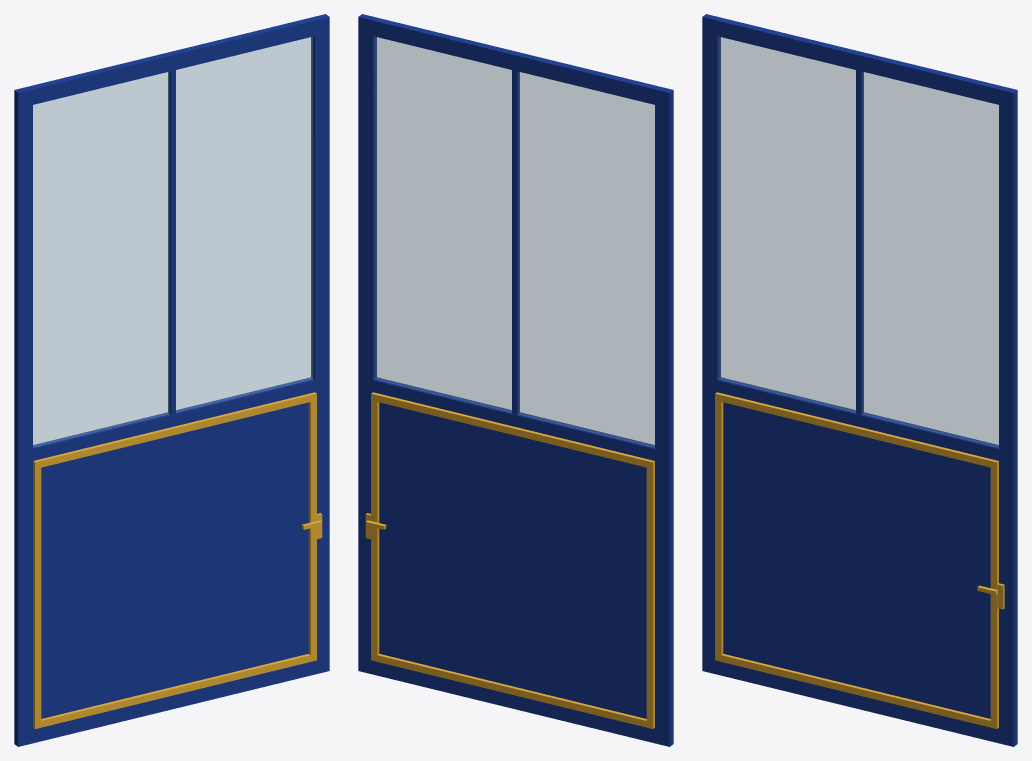
Rendered from SM_Door_academy_220x440.fbx.
3 renders of one model, left to right at view 1: azimuth 30°, elevation 25°; view 2: azimuth 150°, elevation 25°; view 3: azimuth 330°, elevation 25°, orthographic.
Visible parts, largest first — view 1: SM_Door_academy_220x440; view 2: SM_Door_academy_220x440; view 3: SM_Door_academy_220x440.
Boxes of the visible parts, x1,y1,x2,y2 form: SM_Door_academy_220x440: (14,14,329,746); SM_Door_academy_220x440: (358,14,673,746); SM_Door_academy_220x440: (702,14,1017,746).
Bounding box in the file's own units: 2.19 × 4.39 × 0.175.
